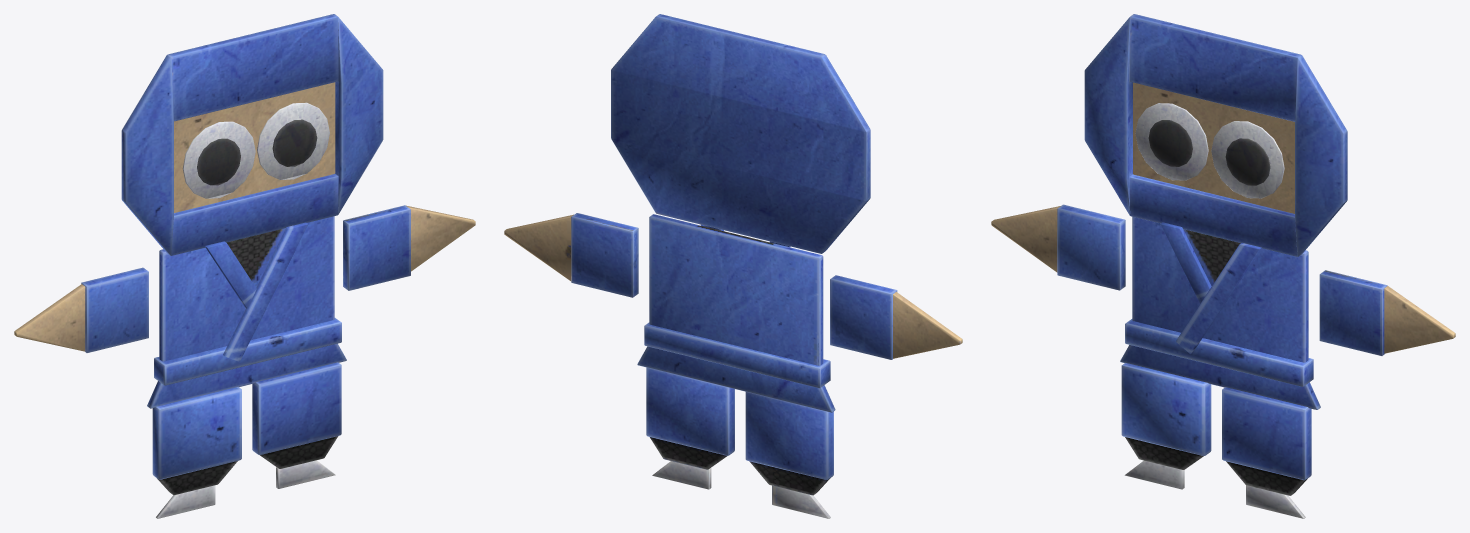
File: ninja.fbx
The picture shows the model from 3 angles, left to right: view 1: azimuth 30°, elevation 25°; view 2: azimuth 150°, elevation 25°; view 3: azimuth 330°, elevation 25°; orthographic projection.
Visible parts, largest first — view 1: ninja:ninja1:head__Mat_Zukin, ninja:ninja1:body__Mat_Karada, ninja:ninja1:leg_l__Mat_Karada, ninja:ninja1:leg_r__Mat_Karada, ninja:ninja1:hand_l__Mat_Karada, ninja:ninja1:hand_r__Mat_Karada, ninja:ninja1:body__Mat_Zukin, ninja:ninja1:eye_l__Mat_Eye, ninja:ninja1:eye_r__Mat_Eye, ninja:ninja1:hand_l__Mat_Zukin, ninja:ninja1:hand_r__Mat_Zukin, ninja:ninja1:blackeye_r__Mat_Eye (+3 smaller); view 2: ninja:ninja1:head__Mat_Zukin, ninja:ninja1:body__Mat_Karada, ninja:ninja1:leg_l__Mat_Karada, ninja:ninja1:leg_r__Mat_Karada, ninja:ninja1:hand_l__Mat_Karada, ninja:ninja1:hand_r__Mat_Karada, ninja:ninja1:hand_l__Mat_Zukin, ninja:ninja1:hand_r__Mat_Zukin, ninja:ninja1:leg_l__Mat_Zukin, ninja:ninja1:leg_r__Mat_Zukin; view 3: ninja:ninja1:head__Mat_Zukin, ninja:ninja1:body__Mat_Karada, ninja:ninja1:leg_l__Mat_Karada, ninja:ninja1:leg_r__Mat_Karada, ninja:ninja1:hand_r__Mat_Karada, ninja:ninja1:hand_l__Mat_Karada, ninja:ninja1:body__Mat_Zukin, ninja:ninja1:eye_l__Mat_Eye, ninja:ninja1:eye_r__Mat_Eye, ninja:ninja1:hand_r__Mat_Zukin, ninja:ninja1:hand_l__Mat_Zukin, ninja:ninja1:blackeye_r__Mat_Eye (+3 smaller).
Part boxes in pixels (left/top/right/bottom): ninja:ninja1:head__Mat_Zukin: left=121, top=14, right=383, bottom=255; ninja:ninja1:body__Mat_Karada: left=147, top=216, right=346, bottom=408; ninja:ninja1:leg_l__Mat_Karada: left=152, top=387, right=241, bottom=495; ninja:ninja1:leg_r__Mat_Karada: left=252, top=362, right=341, bottom=468; ninja:ninja1:hand_l__Mat_Karada: left=343, top=205, right=410, bottom=290; ninja:ninja1:hand_r__Mat_Karada: left=81, top=267, right=148, bottom=352; ninja:ninja1:body__Mat_Zukin: left=205, top=222, right=308, bottom=361; ninja:ninja1:eye_l__Mat_Eye: left=182, top=121, right=255, bottom=198; ninja:ninja1:eye_r__Mat_Eye: left=257, top=102, right=329, bottom=179; ninja:ninja1:hand_l__Mat_Zukin: left=14, top=284, right=85, bottom=351; ninja:ninja1:hand_r__Mat_Zukin: left=406, top=205, right=475, bottom=271; ninja:ninja1:blackeye_r__Mat_Eye: left=272, top=119, right=317, bottom=166; ninja:ninja1:head__Mat_Zukin: left=611, top=14, right=870, bottom=253; ninja:ninja1:body__Mat_Karada: left=637, top=214, right=835, bottom=412; ninja:ninja1:leg_l__Mat_Karada: left=745, top=392, right=833, bottom=495; ninja:ninja1:leg_r__Mat_Karada: left=646, top=367, right=734, bottom=469; ninja:ninja1:hand_l__Mat_Karada: left=571, top=213, right=638, bottom=297; ninja:ninja1:hand_r__Mat_Karada: left=830, top=275, right=897, bottom=359; ninja:ninja1:hand_l__Mat_Zukin: left=893, top=292, right=962, bottom=358; ninja:ninja1:hand_r__Mat_Zukin: left=504, top=214, right=573, bottom=281; ninja:ninja1:leg_l__Mat_Zukin: left=772, top=485, right=830, bottom=518; ninja:ninja1:leg_r__Mat_Zukin: left=652, top=461, right=711, bottom=489; ninja:ninja1:head__Mat_Zukin: left=1084, top=14, right=1347, bottom=256; ninja:ninja1:body__Mat_Karada: left=1120, top=217, right=1320, bottom=409; ninja:ninja1:leg_l__Mat_Karada: left=1121, top=363, right=1211, bottom=469; ninja:ninja1:leg_r__Mat_Karada: left=1222, top=387, right=1311, bottom=495; ninja:ninja1:hand_r__Mat_Karada: left=1057, top=204, right=1125, bottom=290; ninja:ninja1:hand_l__Mat_Karada: left=1319, top=270, right=1387, bottom=355; ninja:ninja1:body__Mat_Zukin: left=1160, top=222, right=1261, bottom=354; ninja:ninja1:eye_l__Mat_Eye: left=1135, top=103, right=1208, bottom=180; ninja:ninja1:eye_r__Mat_Eye: left=1211, top=121, right=1284, bottom=198; ninja:ninja1:hand_r__Mat_Zukin: left=1384, top=286, right=1455, bottom=353; ninja:ninja1:hand_l__Mat_Zukin: left=991, top=206, right=1060, bottom=272; ninja:ninja1:blackeye_r__Mat_Eye: left=1225, top=138, right=1270, bottom=185.
Size of the model in its own units: 3.29 by 3.16 by 0.1993.
